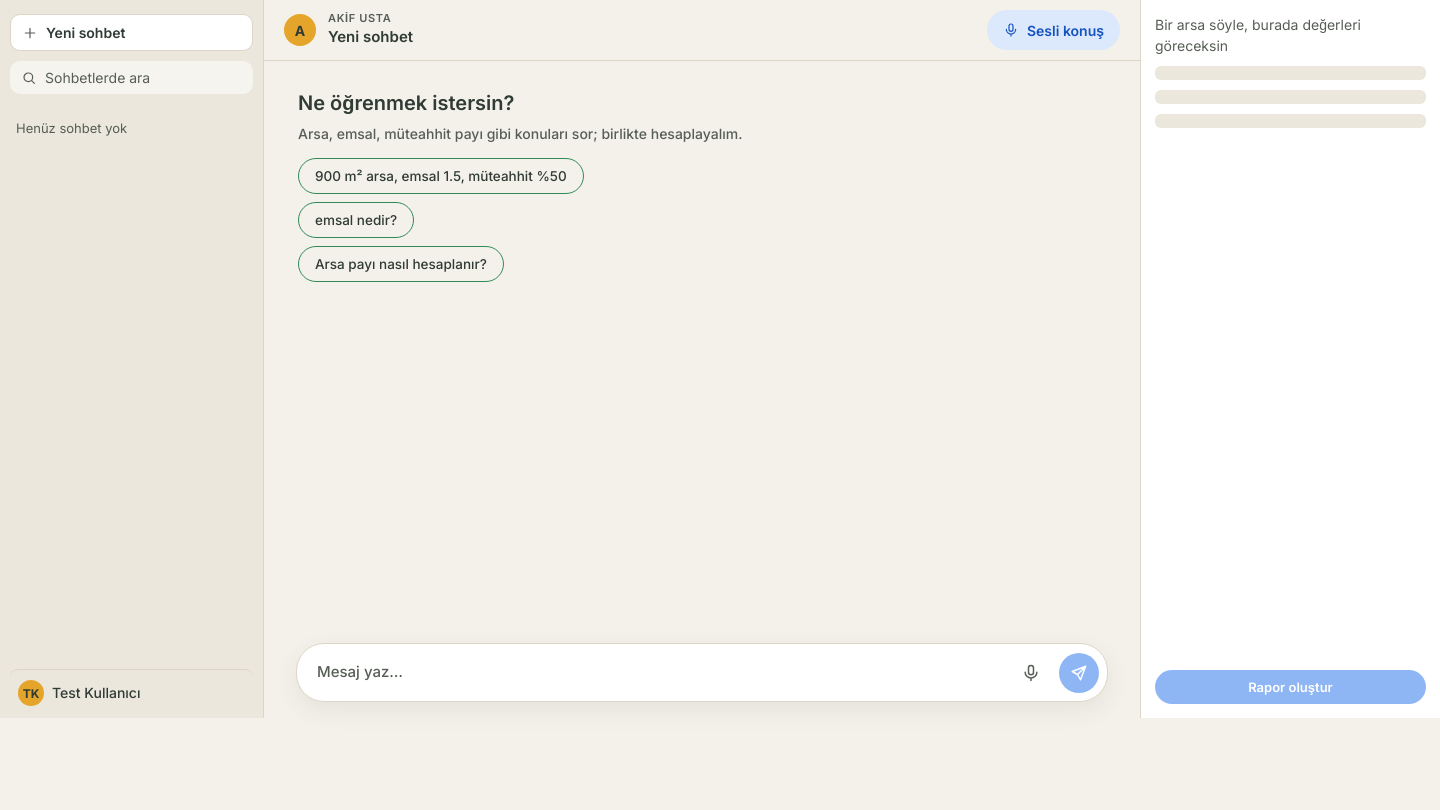
409 iki kez → hata satırı, üçüncü deneme yok
In the text box: (660,672) x1=317 y1=652 x2=1003 y2=693, type "merhaba"
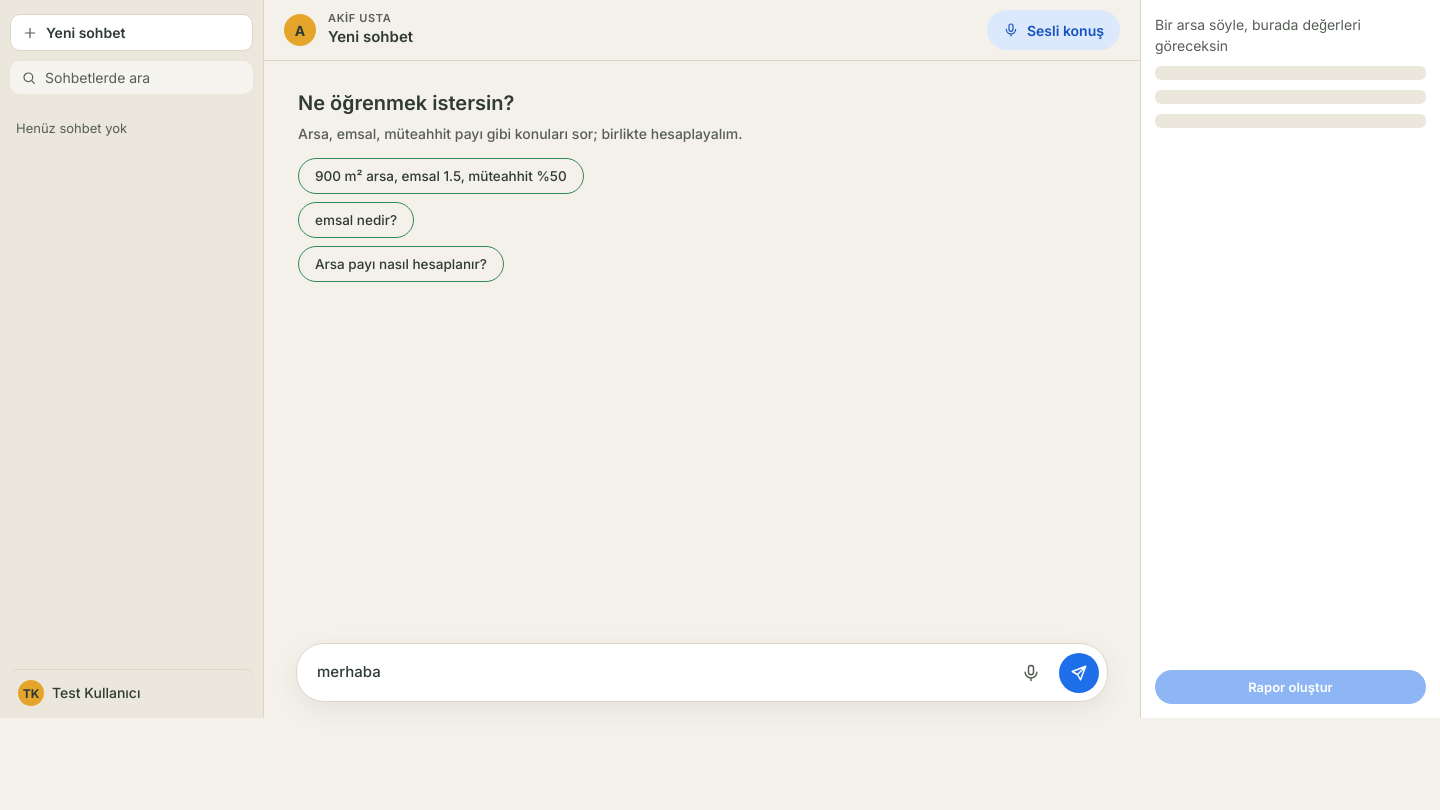
Submit the form, box x1=296 y1=643 x2=1108 y2=702
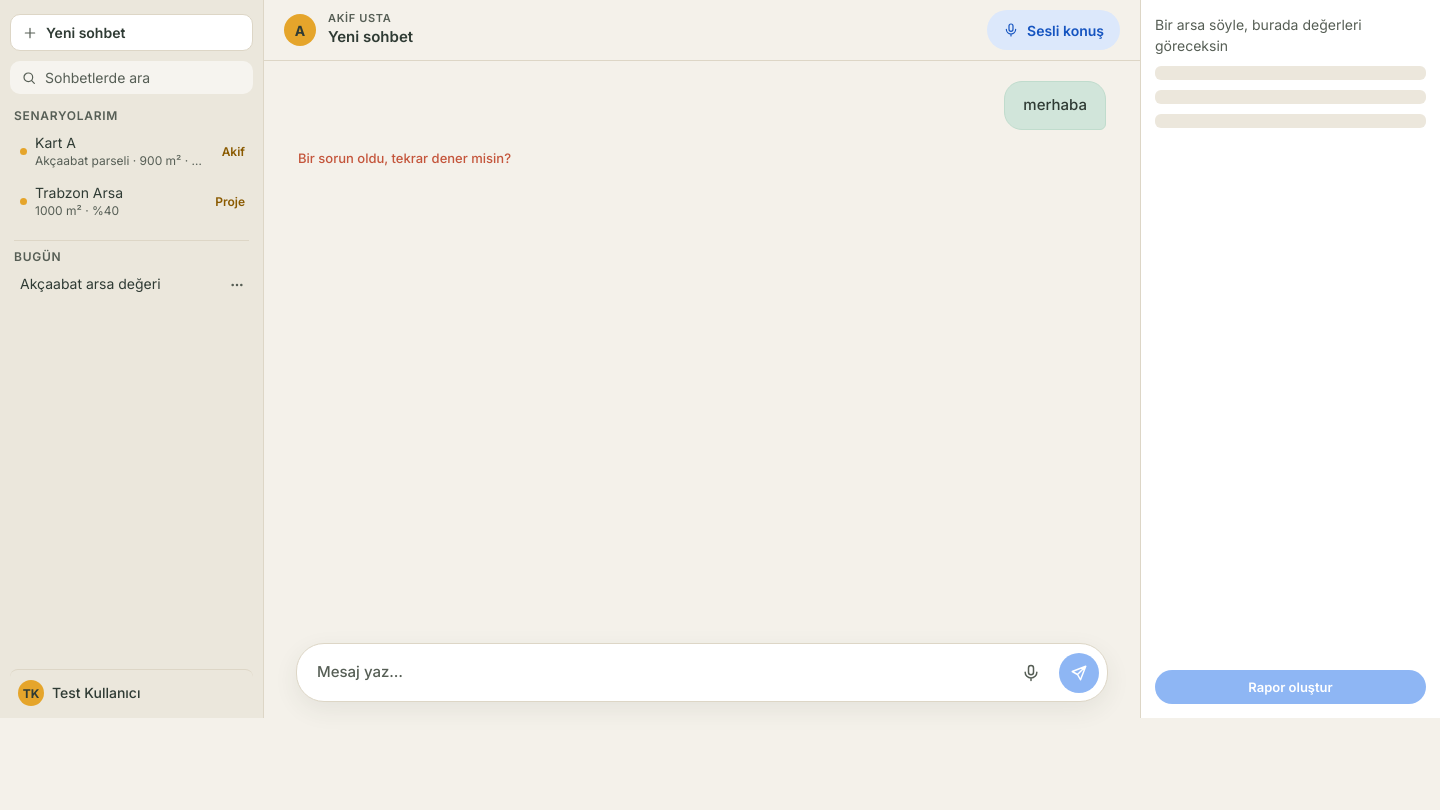
Check: the text "Bir sorun oldu, tekrar dener misin?" is shown, box x1=298 y1=150 x2=511 y2=166
